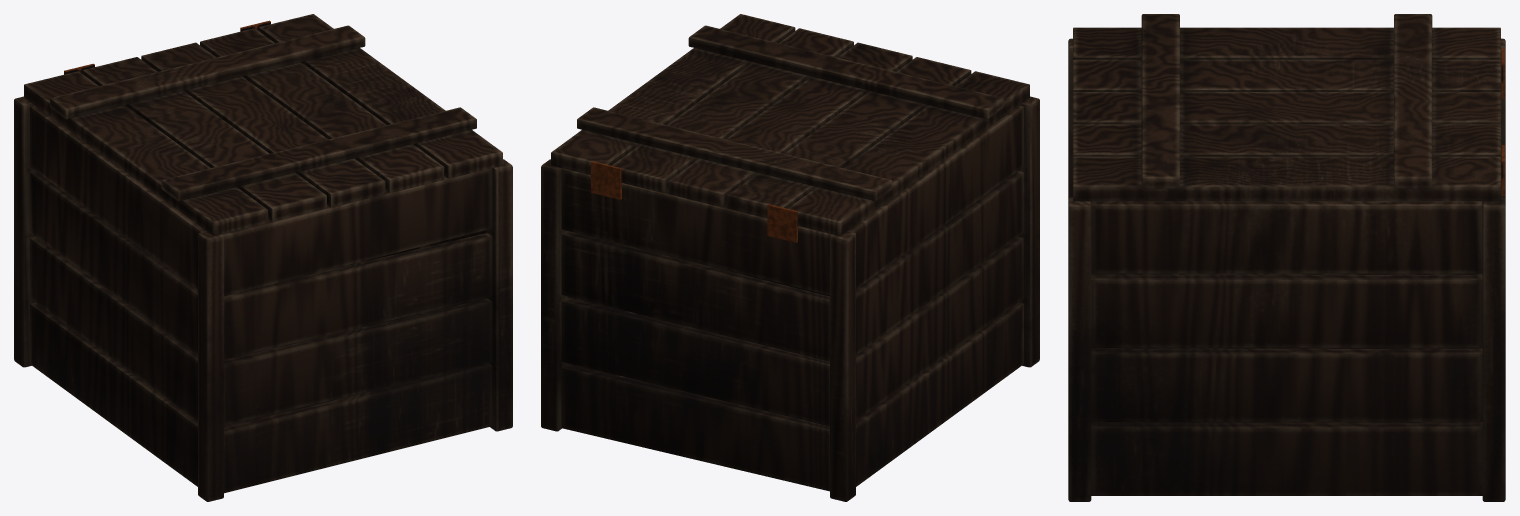
Rendered from attic_crate_b.glb.
3 renders of one model, left to right at view 1: azimuth 30°, elevation 25°; view 2: azimuth 150°, elevation 25°; view 3: azimuth 270°, elevation 25°, orthographic. The views are drawn at different scales.
Parts seen in each view (by area): view 1: Body, Lid; view 2: Body, Lid, LidHinges; view 3: Body, Lid.
Boxes of the visible parts, x1,y1,x2,y2 form: Body: (14, 96, 512, 501); Lid: (24, 14, 502, 235); Body: (541, 96, 1039, 501); Lid: (551, 14, 1029, 235); LidHinges: (591, 161, 797, 242); Body: (1068, 38, 1505, 501); Lid: (1073, 14, 1500, 201).
Bounding box in the file's own units: 0.522 × 0.466 × 0.572.
Materials: 3 (3 with a texture image).
